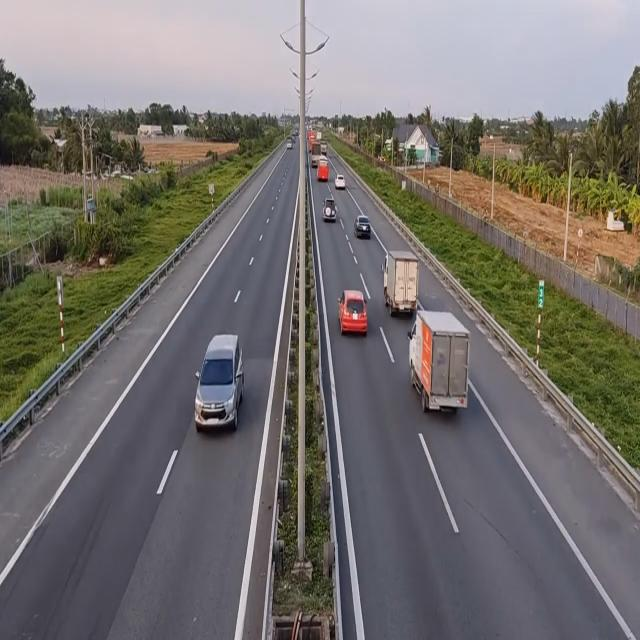car: (195, 332, 244, 432), (338, 290, 368, 338), (354, 214, 371, 240), (322, 196, 336, 224), (336, 174, 348, 191)
truck: (407, 302, 471, 417), (385, 250, 421, 320)
